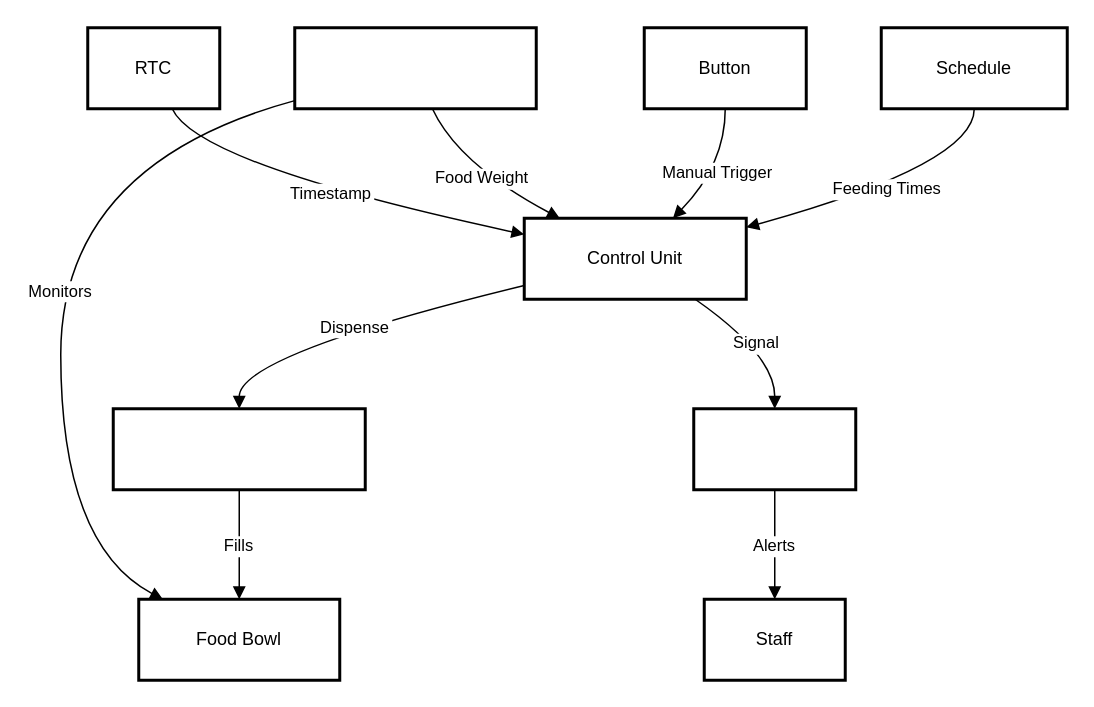
This 1094x707 diagram has some shape labels left out. Here are the shapes that lost their labels. From the top down, the centre of each, then its label:
At (414,68): "Weight Sensor".
At (238,448): "Food Dispenser".
At (774,448): "Buzzer".
